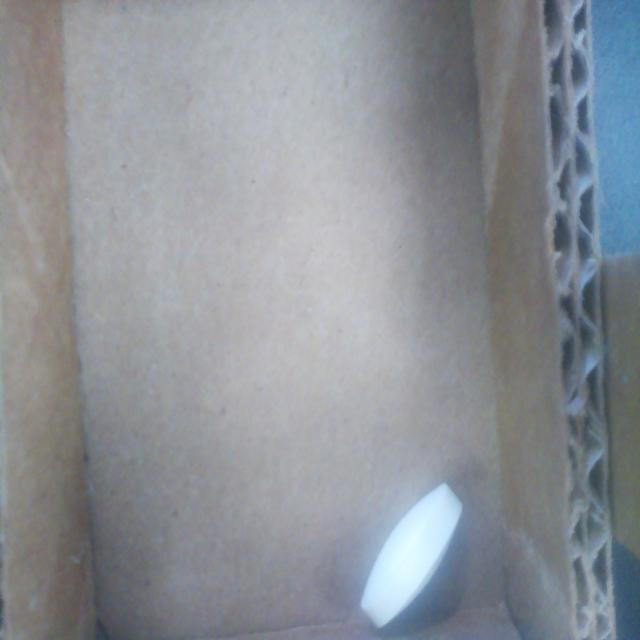pill: (360, 483, 462, 627)
